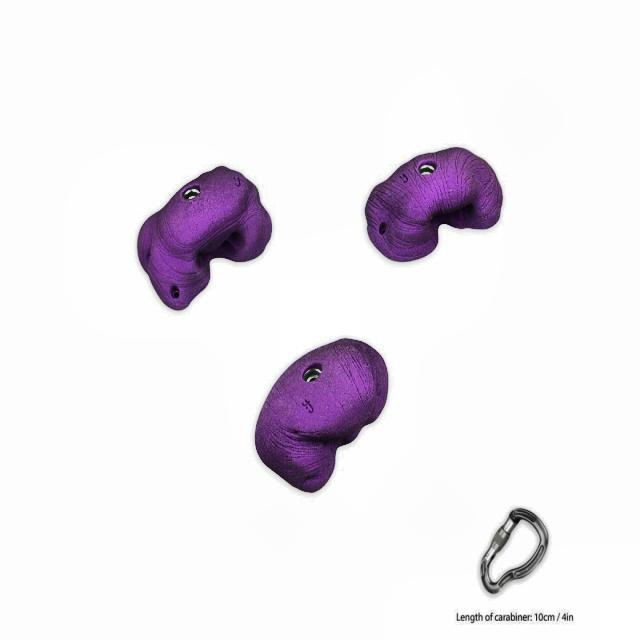Hold: (249, 334, 390, 500), (354, 134, 510, 268), (133, 161, 275, 308)
